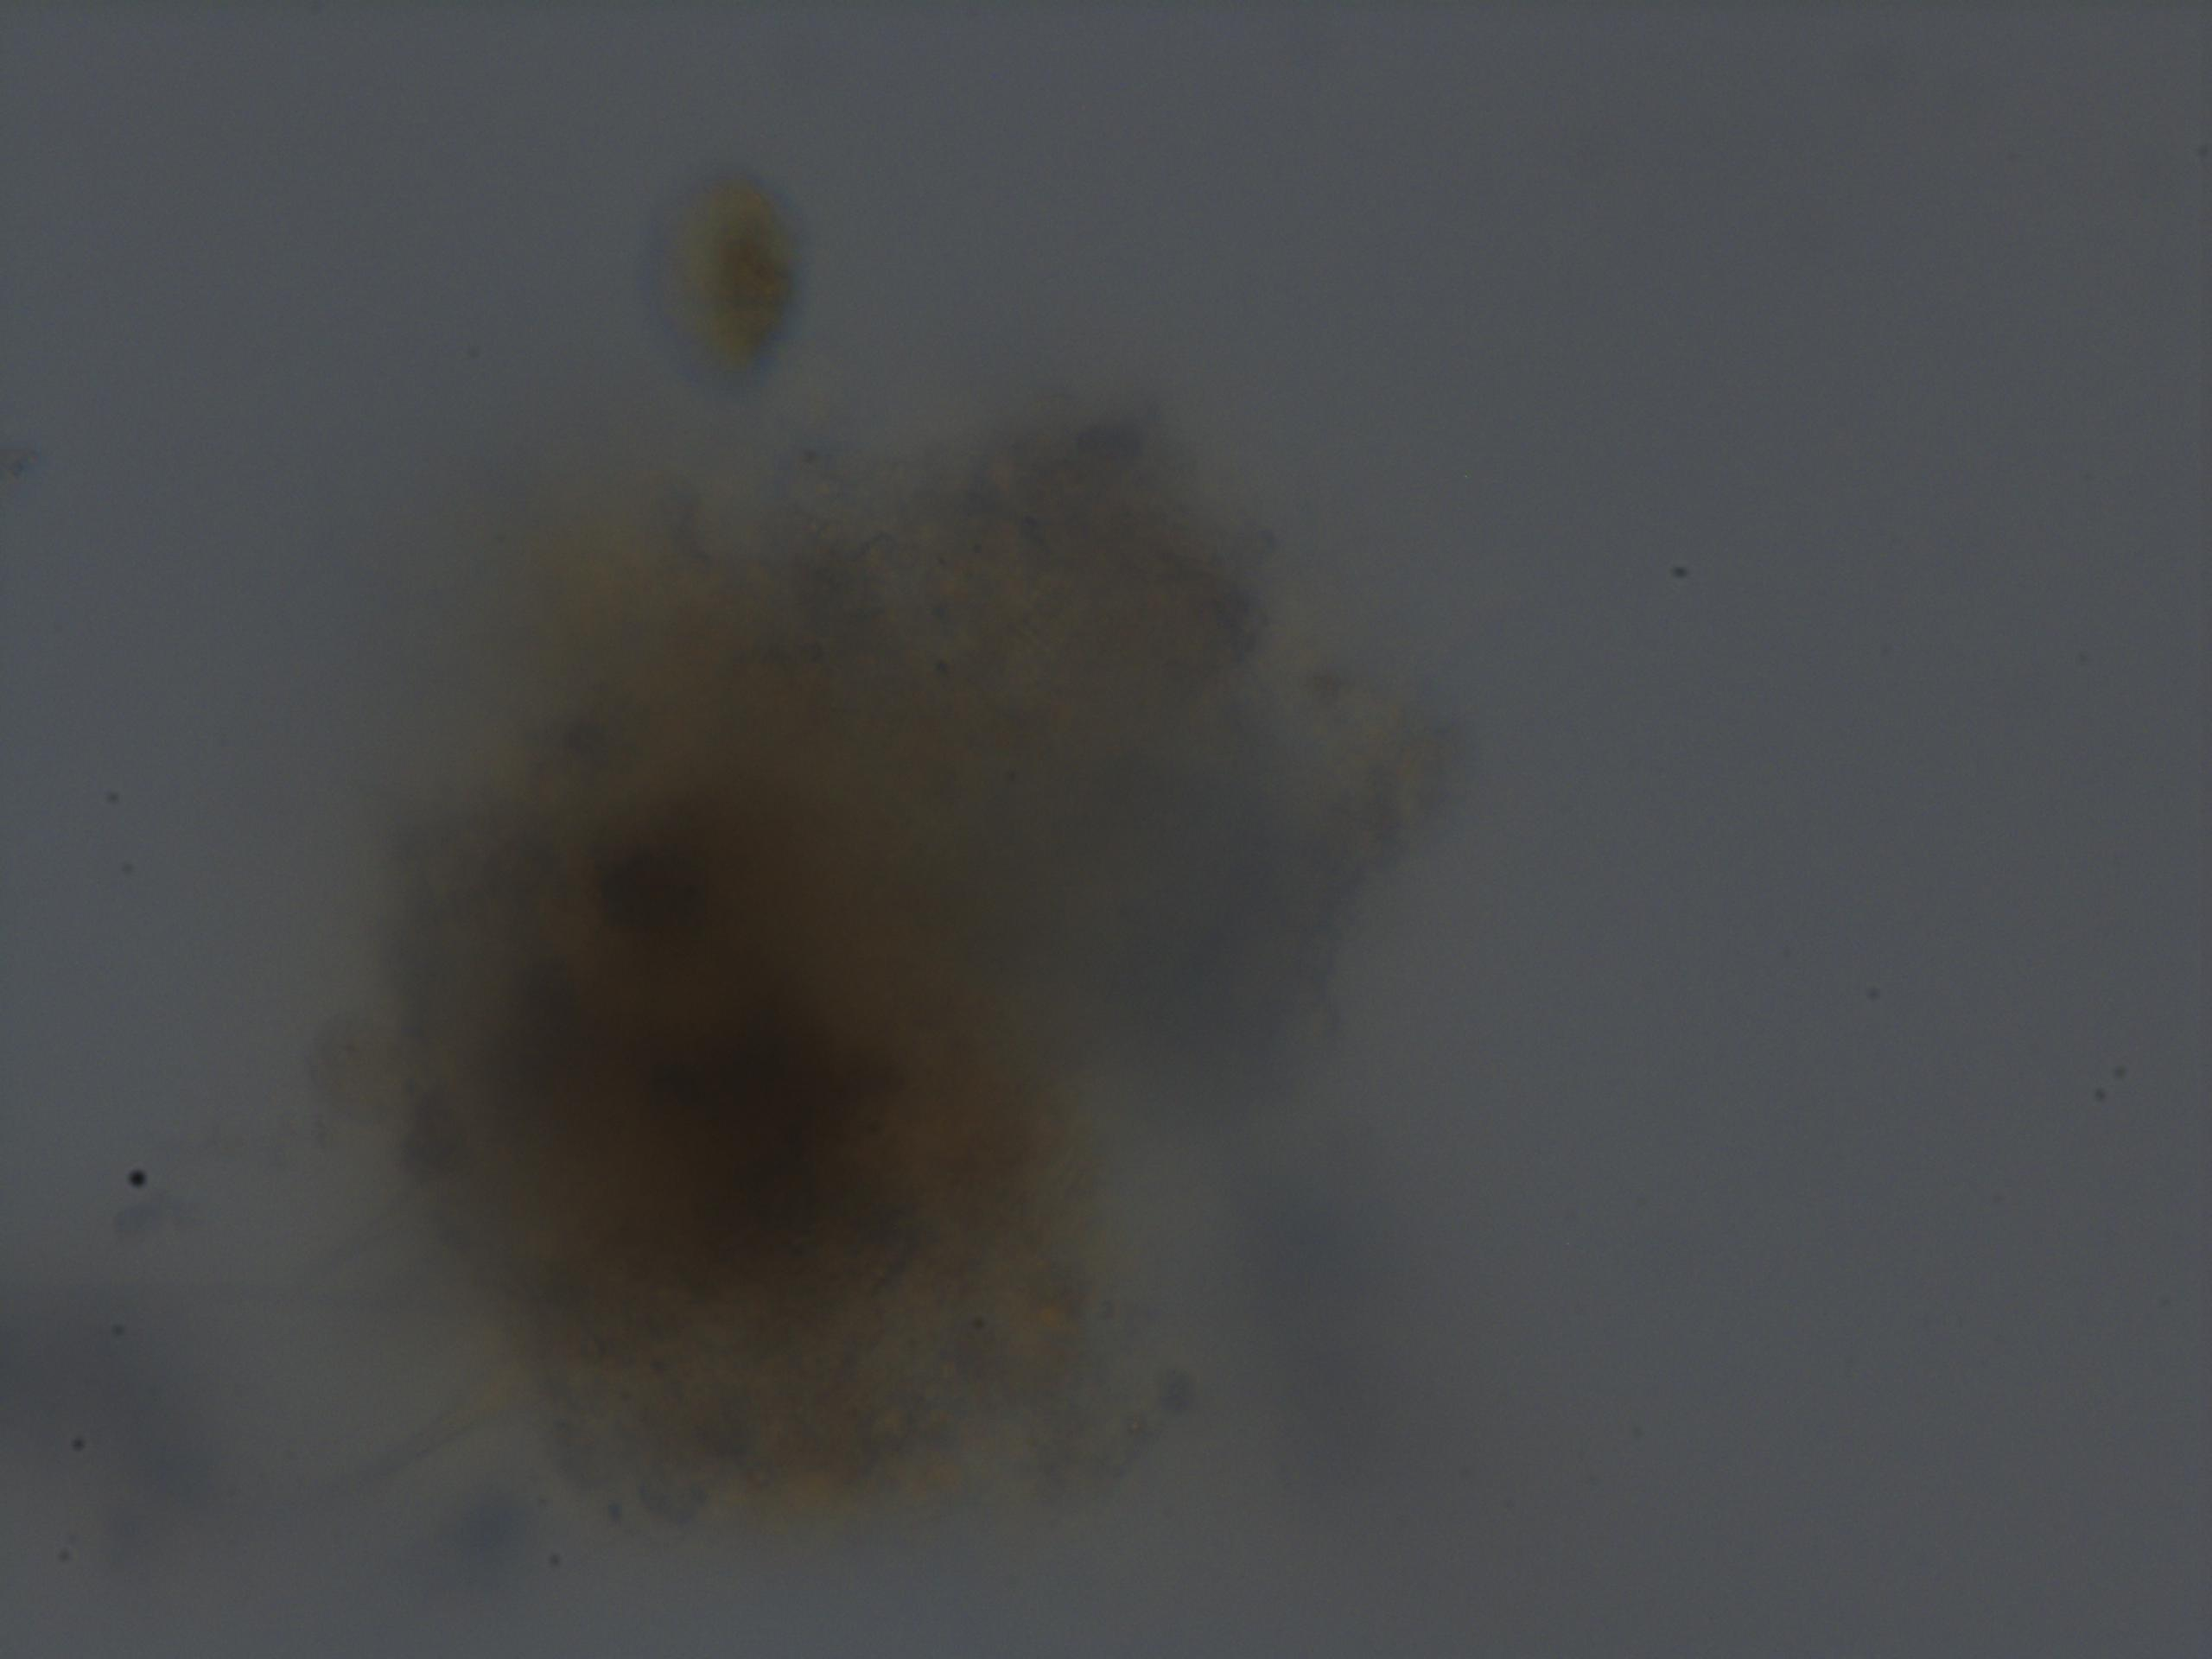spherical_floc: (357, 380, 1150, 1574)
